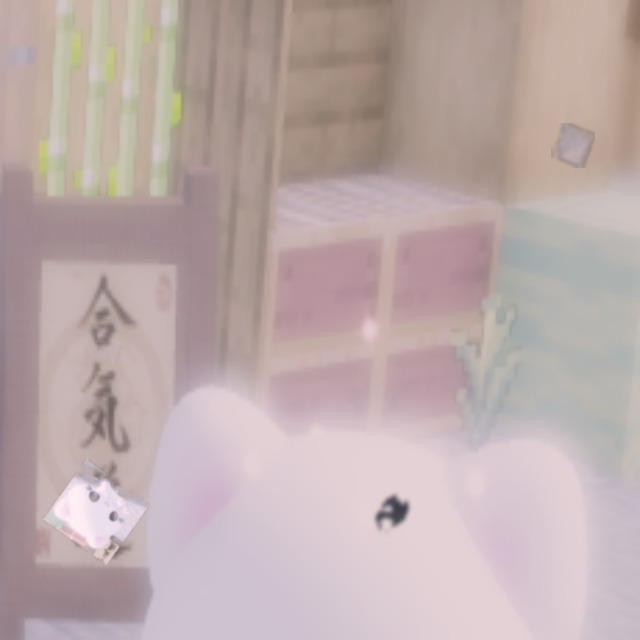urso_branco: (43, 459, 150, 565), (551, 123, 595, 168)
urso_preto: (361, 484, 423, 544)
